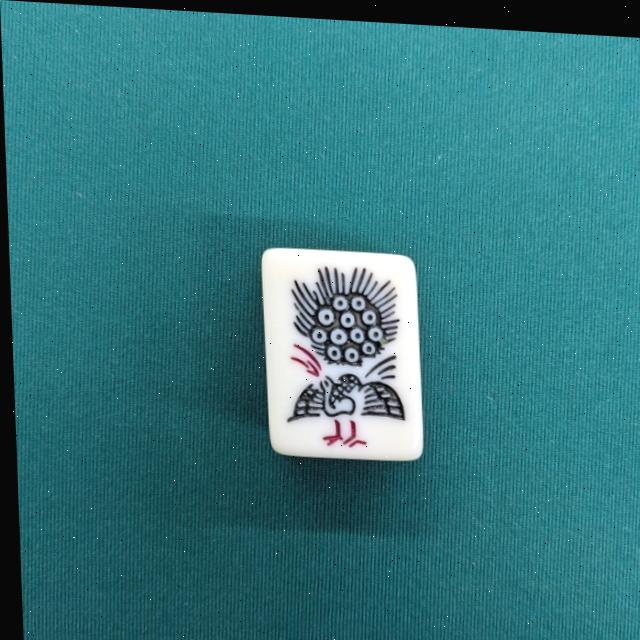1s: (257, 241, 425, 461)
